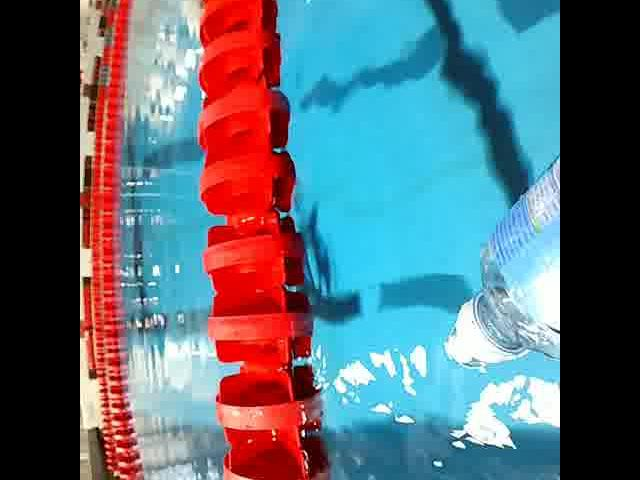Bottle: (439, 144, 560, 376)
